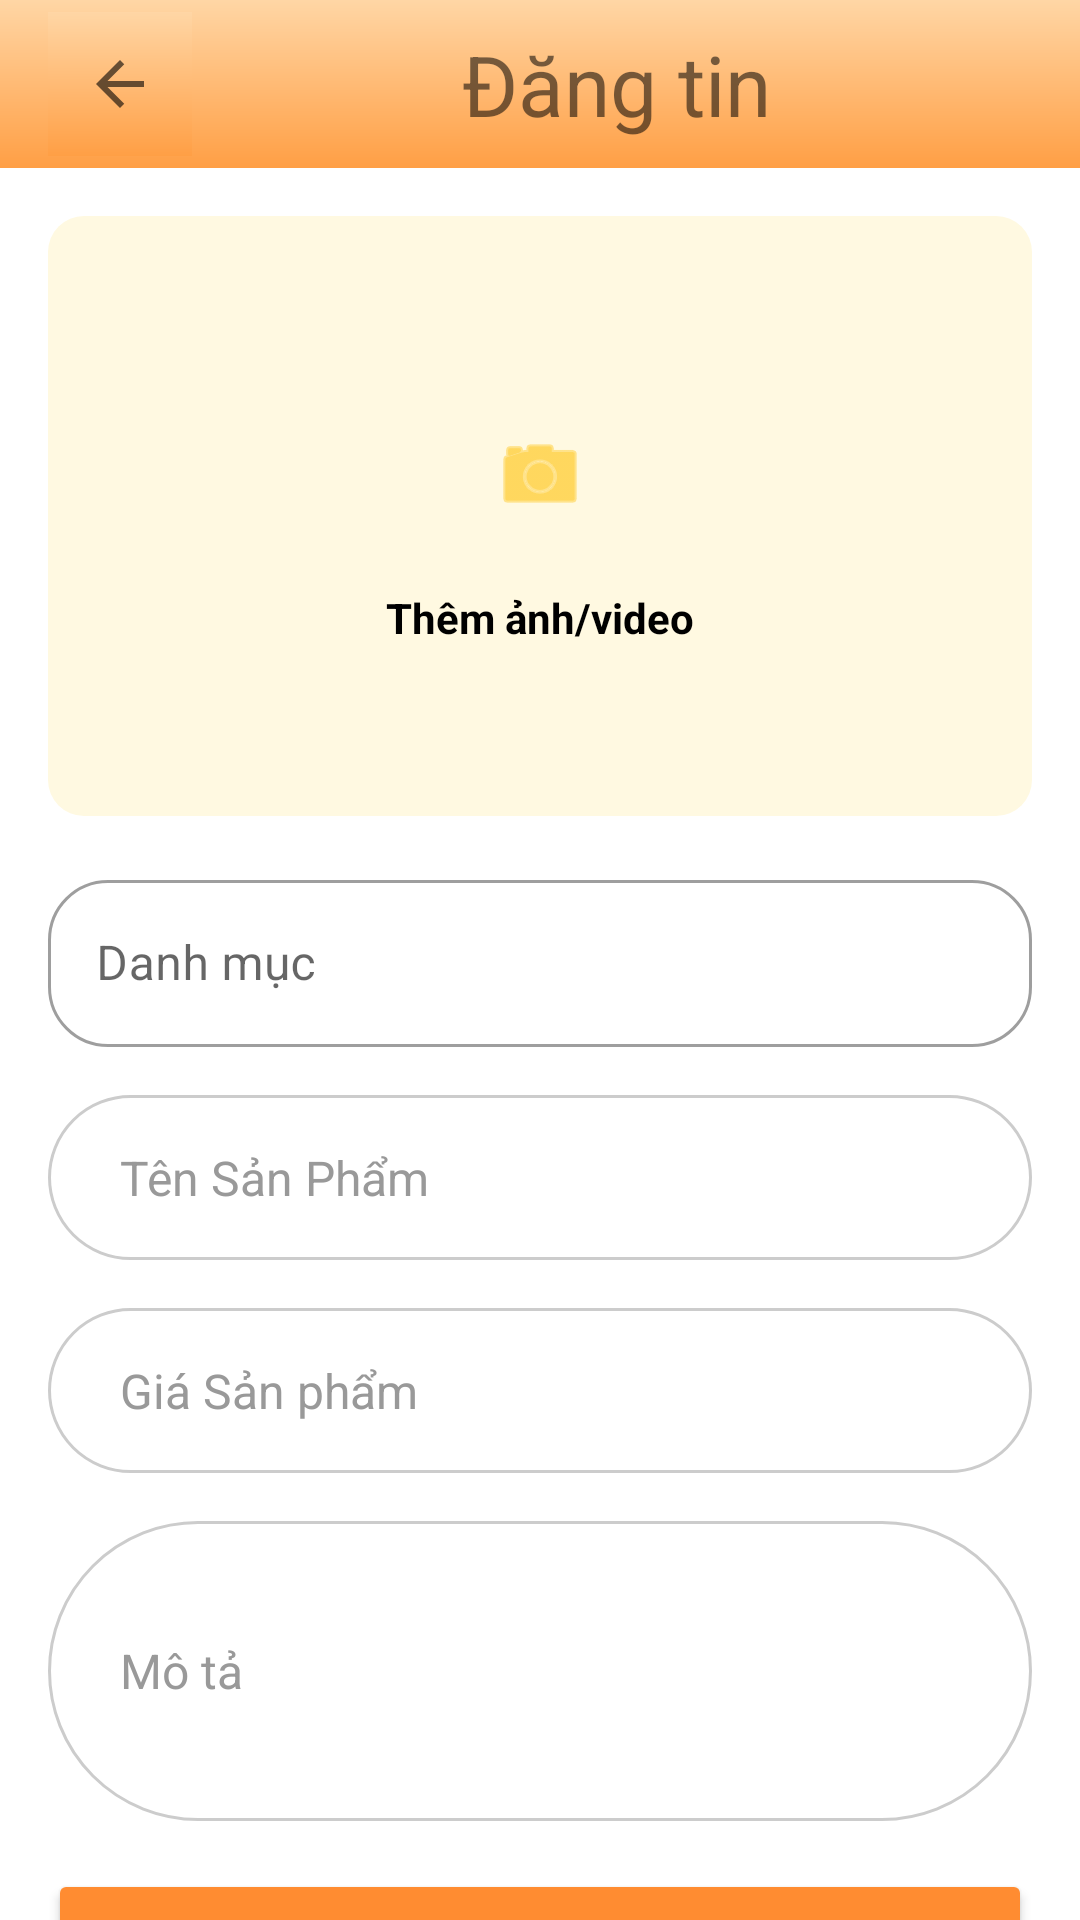

Point at icon controls on the screen. Image size 1080w x 1920h, points as (x=x, y=y).
camera: (x=540, y=473)
